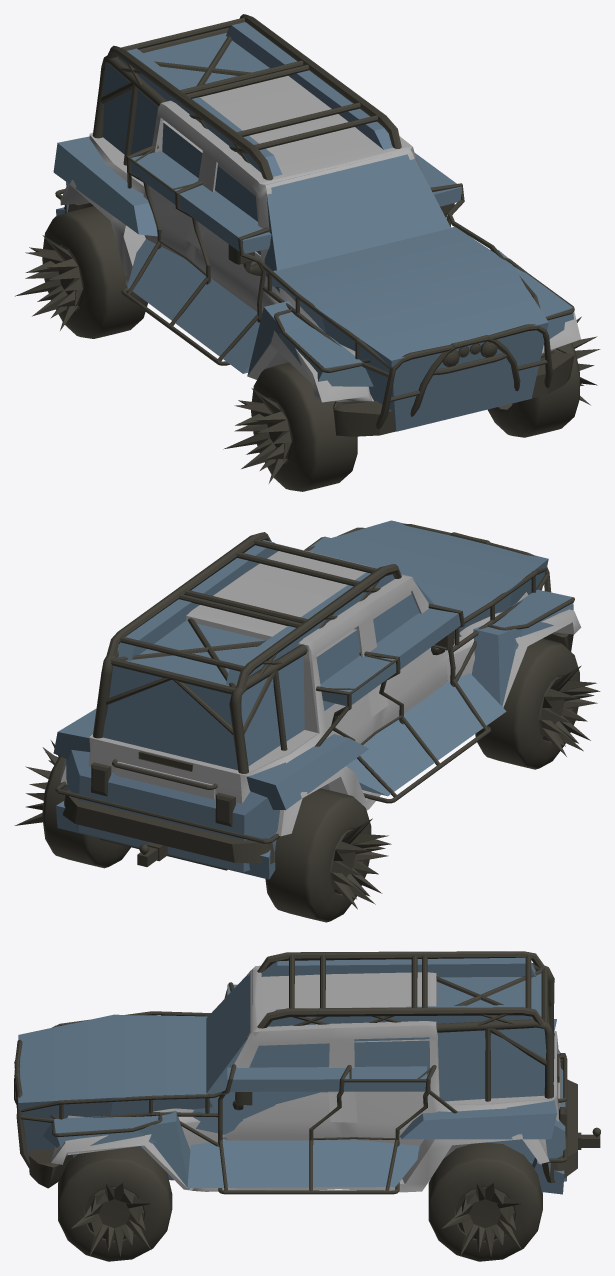
Rendered from Jeep.fbx.
The picture shows the model from 3 angles, top to bottom: view 1: azimuth 30°, elevation 25°; view 2: azimuth 150°, elevation 25°; view 3: azimuth 270°, elevation 25°; orthographic projection. The views are drawn at different scales.
Visible parts, largest first — view 1: Body, Jeep_Colider_01_Geo, Jeep_Colider_06_Geo, polySurface537, polySurface533, Jeep_Colider_04_Geo, Jeep_Colider_02_Geo, Jeep_Colider_08_Geo, Jeep_Colider_11_Geo, polySurface422, Jeep_Colider_13_Geo, Jeep_Colider_15_Geo (+1 smaller); view 2: Body, Jeep_Colider_06_Geo, Jeep_Colider_01_Geo, polySurface537, polySurface533, Jeep_Colider_04_Geo, Jeep_Colider_07_Geo, Jeep_Colider_08_Geo, Jeep_Colider_02_Geo, Jeep_Colider_11_Geo, polySurface536, Jeep_Colider_15_Geo (+3 smaller); view 3: Body, Jeep_Colider_06_Geo, Jeep_Colider_01_Geo, polySurface536, polySurface422, Jeep_Colider_03_Geo, Jeep_Colider_08_Geo, Jeep_Colider_02_Geo, Jeep_Colider_10_Geo, Jeep_Colider_14_Geo, Jeep_Colider_12_Geo, Jeep_Colider_07_Geo (+1 smaller).
Boxes of the visible parts, bbox=[...] form: Body: bbox=[55, 14, 580, 436]; Jeep_Colider_01_Geo: bbox=[272, 226, 548, 431]; Jeep_Colider_06_Geo: bbox=[103, 33, 450, 292]; polySurface537: bbox=[15, 206, 147, 338]; polySurface533: bbox=[223, 362, 357, 491]; Jeep_Colider_04_Geo: bbox=[127, 239, 259, 373]; Jeep_Colider_02_Geo: bbox=[130, 151, 461, 253]; Jeep_Colider_08_Geo: bbox=[117, 22, 392, 176]; Jeep_Colider_11_Geo: bbox=[53, 136, 157, 236]; polySurface422: bbox=[488, 316, 600, 437]; Jeep_Colider_13_Geo: bbox=[270, 323, 373, 386]; Jeep_Colider_15_Geo: bbox=[247, 301, 312, 375]; Body: bbox=[55, 523, 581, 870]; Jeep_Colider_06_Geo: bbox=[102, 582, 461, 770]; Jeep_Colider_01_Geo: bbox=[309, 520, 548, 638]; polySurface537: bbox=[265, 788, 391, 922]; polySurface533: bbox=[475, 638, 600, 769]; Jeep_Colider_04_Geo: bbox=[347, 673, 506, 796]; Jeep_Colider_07_Geo: bbox=[66, 750, 279, 871]; Jeep_Colider_08_Geo: bbox=[117, 540, 394, 685]; Jeep_Colider_02_Geo: bbox=[320, 608, 460, 705]; Jeep_Colider_11_Geo: bbox=[246, 734, 368, 810]; polySurface536: bbox=[14, 740, 130, 868]; Jeep_Colider_15_Geo: bbox=[471, 617, 525, 706]; Body: bbox=[14, 951, 600, 1194]; Jeep_Colider_06_Geo: bbox=[192, 969, 546, 1161]; Jeep_Colider_01_Geo: bbox=[18, 1014, 212, 1179]; polySurface536: bbox=[428, 1142, 542, 1261]; polySurface422: bbox=[58, 1146, 172, 1261]; Jeep_Colider_03_Geo: bbox=[187, 1140, 419, 1188]; Jeep_Colider_08_Geo: bbox=[261, 957, 536, 1026]; Jeep_Colider_02_Geo: bbox=[227, 984, 426, 1091]; Jeep_Colider_10_Geo: bbox=[399, 1100, 557, 1139]; Jeep_Colider_14_Geo: bbox=[132, 1110, 190, 1189]; Jeep_Colider_12_Geo: bbox=[43, 1116, 156, 1147]; Jeep_Colider_07_Geo: bbox=[545, 1050, 566, 1183].
Bounding box in the file's own units: 2.55 × 1.8 × 4.23.
